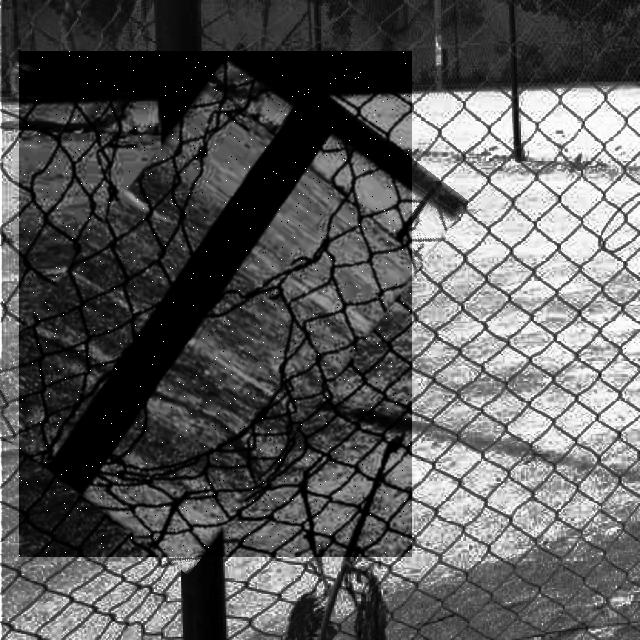anomaly-fence: (19, 51, 412, 557)
